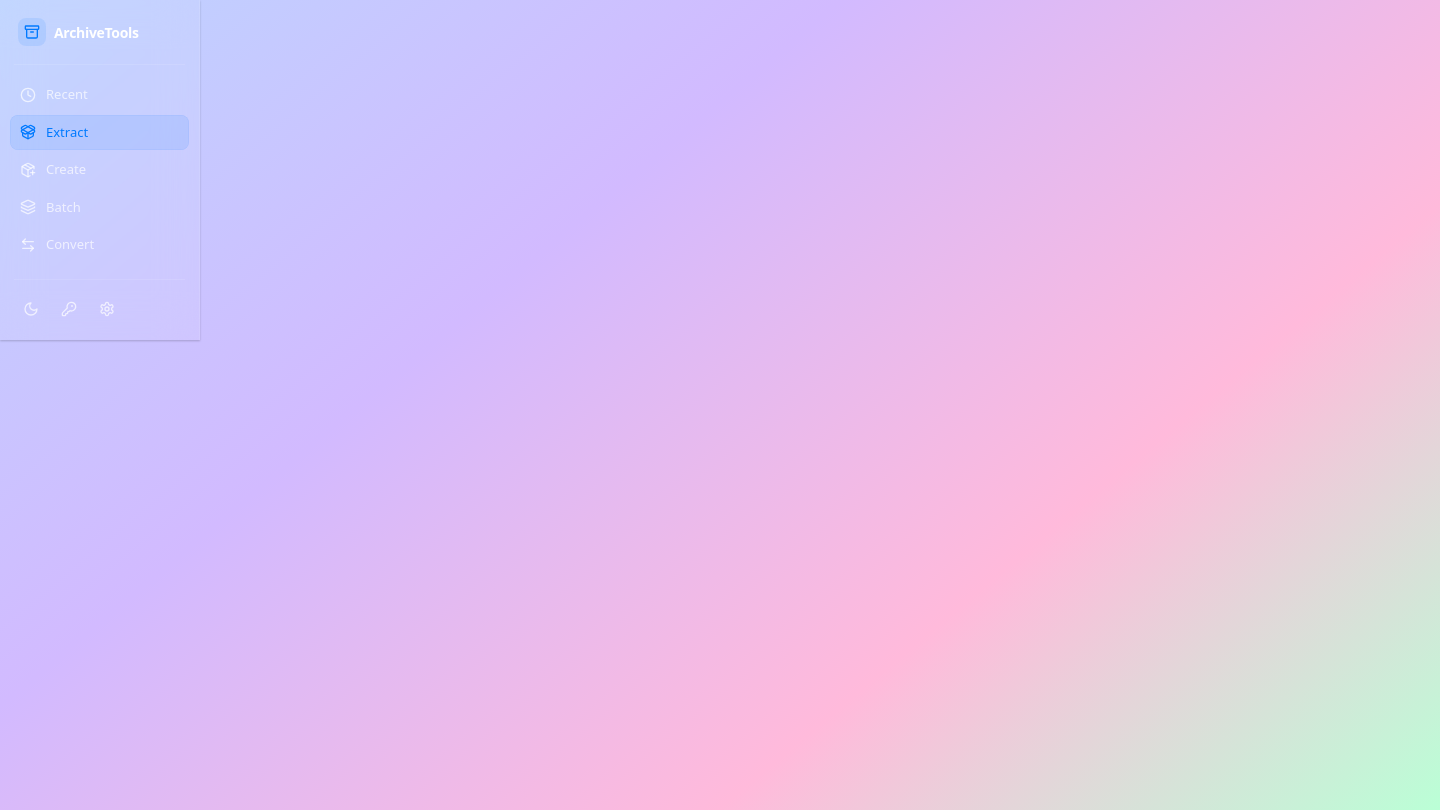
Scenario: Sidebar › settings gear icon opens SettingsDialog
Click the button titled "Settings" at (107, 308), box x1=90 y1=292 x2=124 y2=326
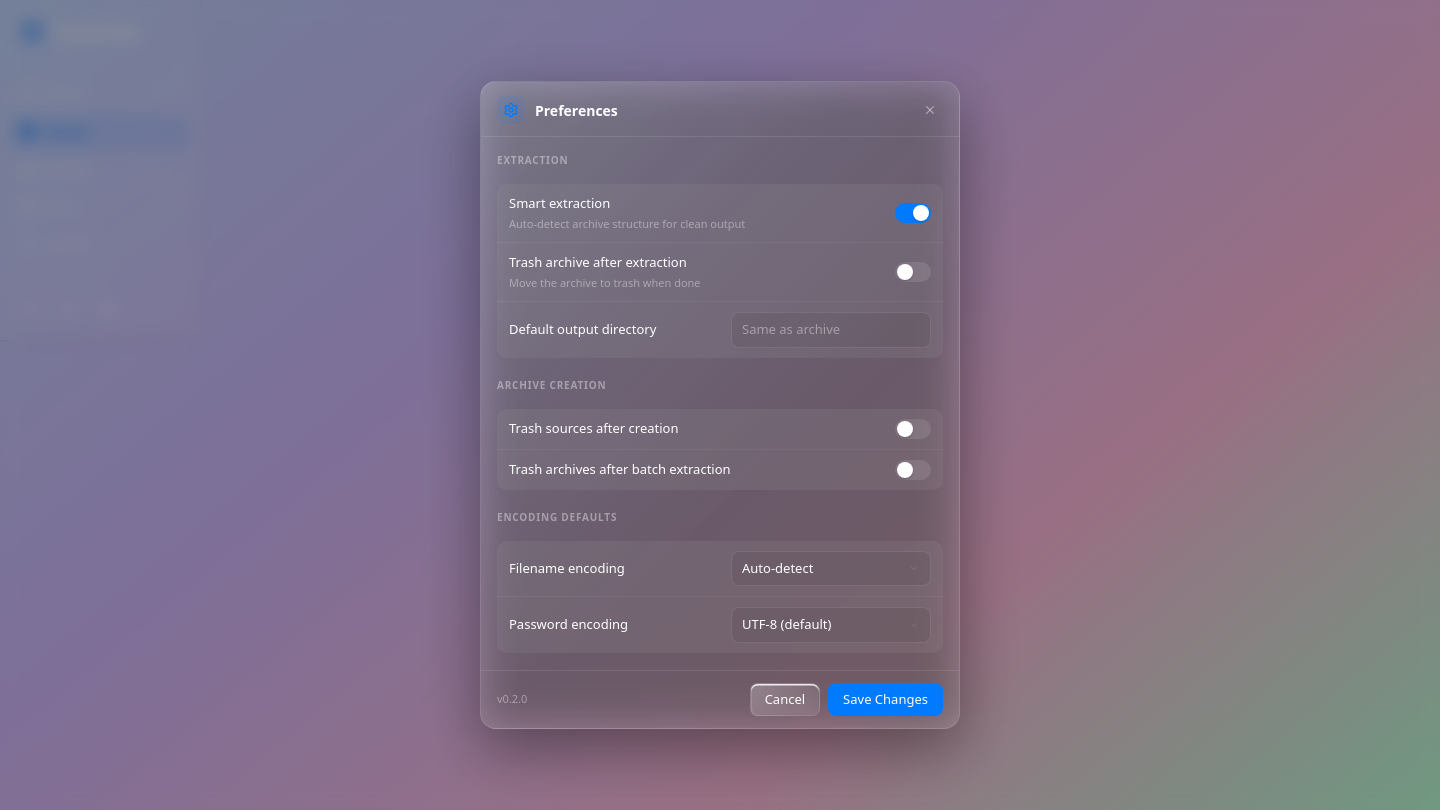
Expected: the text "Preferences" is shown, x1=535 y1=100 x2=618 y2=120
